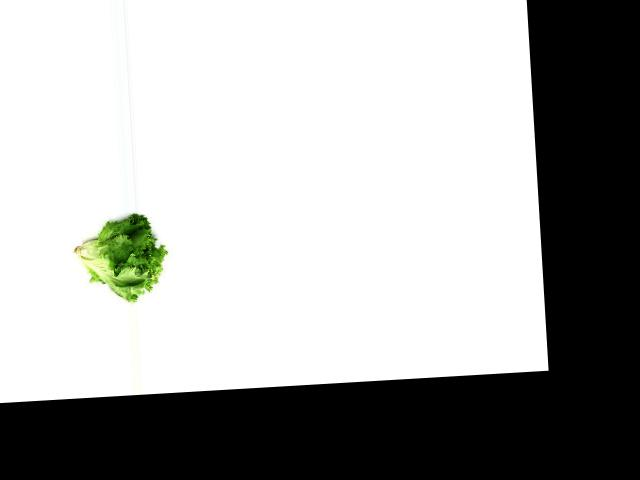lettuce: (71, 210, 168, 307)
